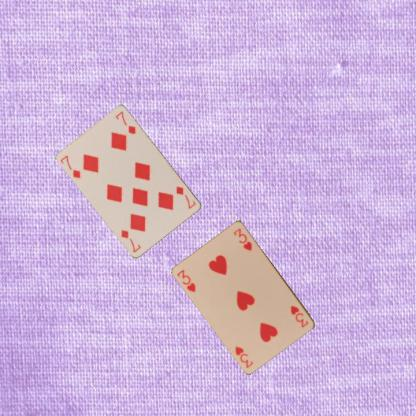3h: (288, 303, 310, 329), (175, 267, 197, 293)
7d: (173, 183, 198, 210), (58, 152, 82, 180)
